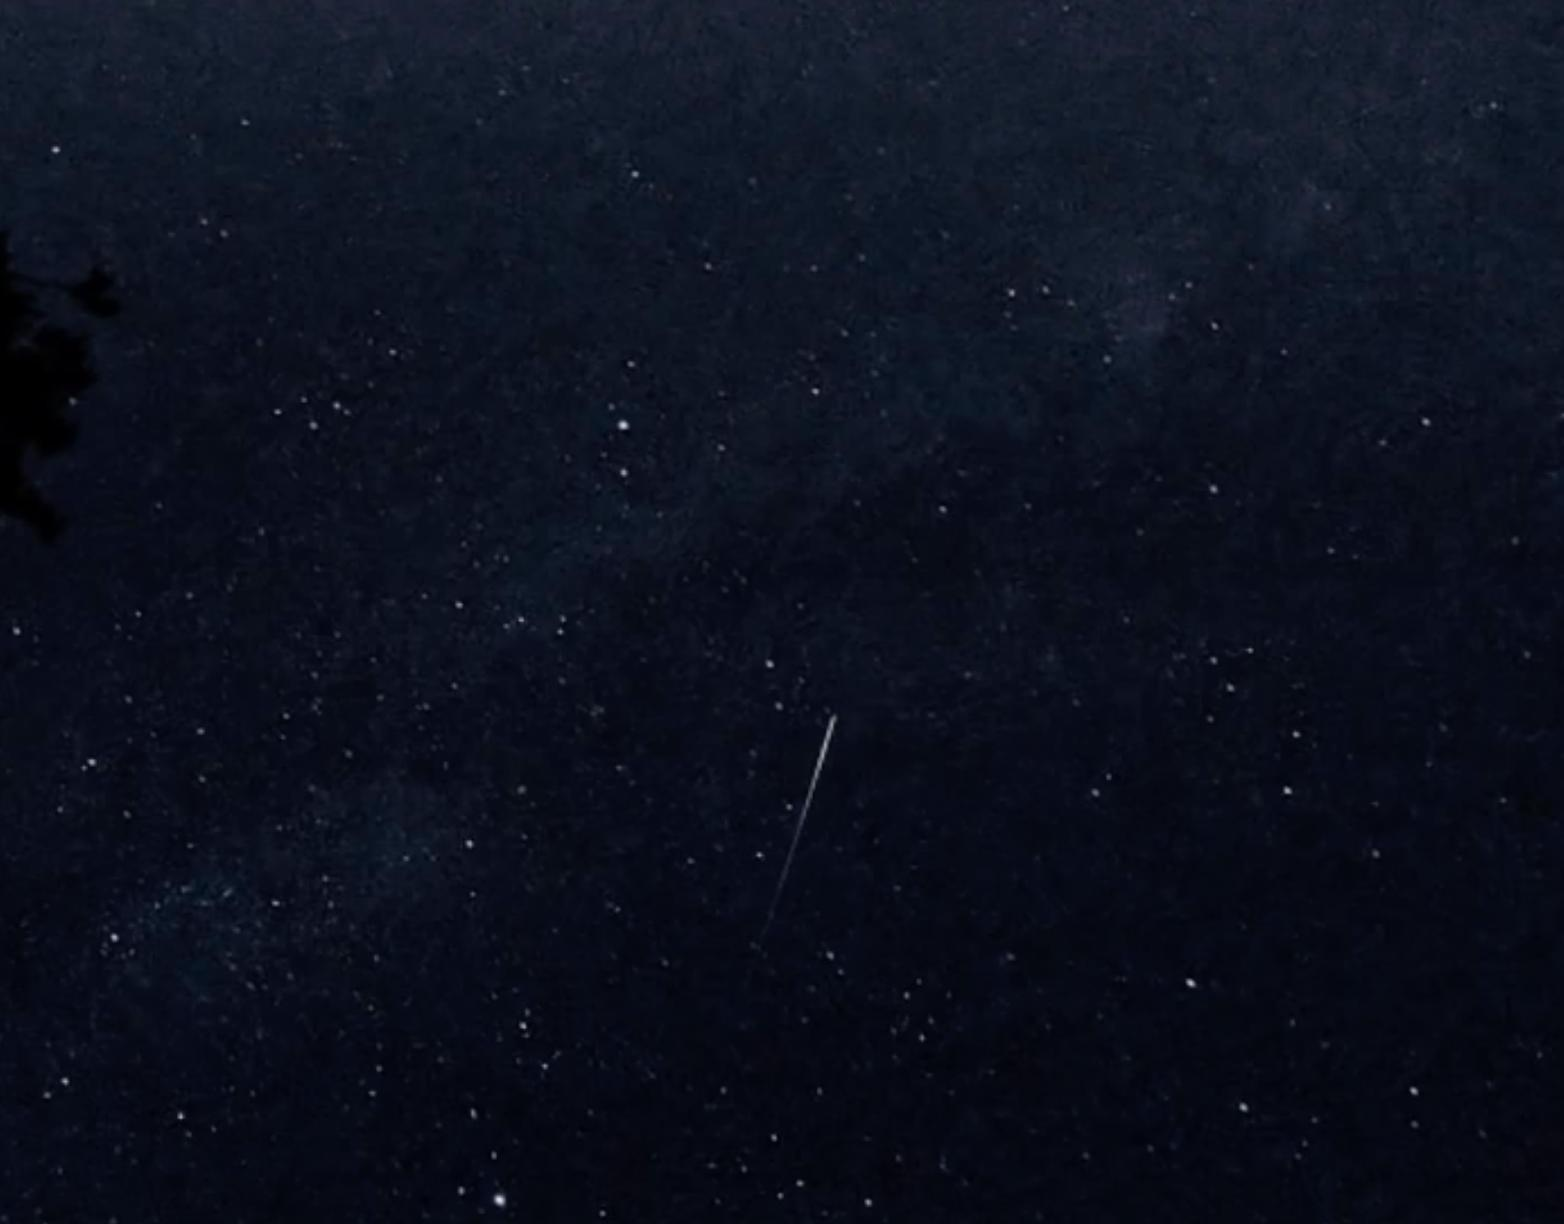meteorite: (734, 705, 899, 948)
